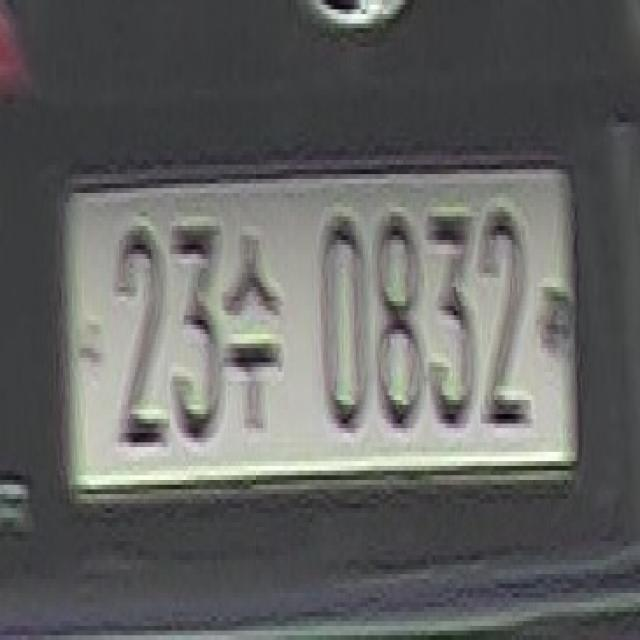0: (310, 198, 378, 455)
2: (63, 163, 578, 499), (105, 202, 173, 454), (479, 180, 541, 443)
3: (425, 186, 483, 447), (170, 202, 227, 460)
8: (375, 187, 426, 454)
su: (226, 216, 285, 459)
